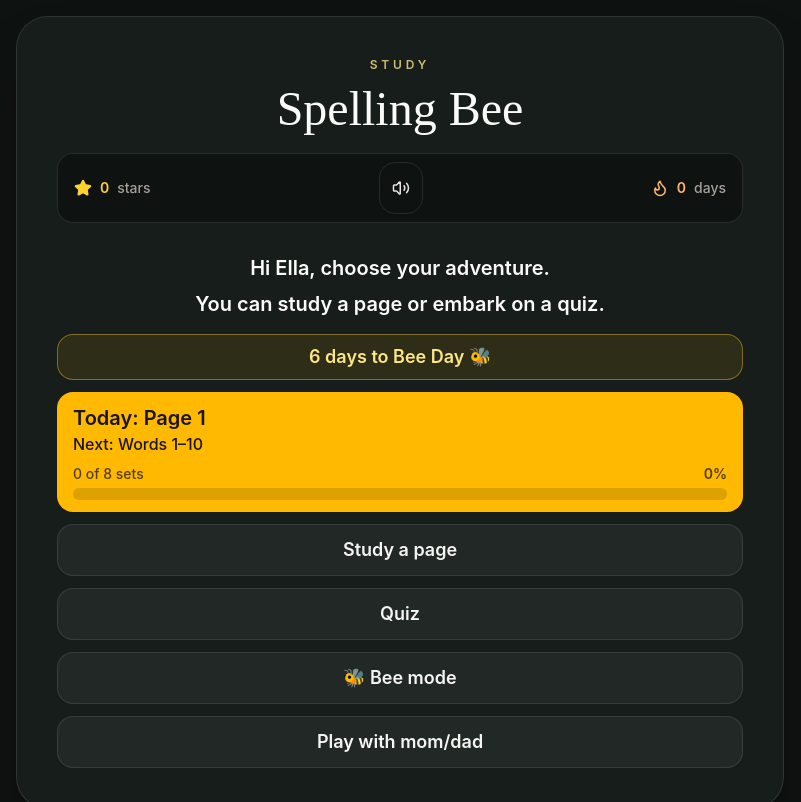
Scenario: spelling attempts › fills the letter boxes from the current word as you type
Click the button "Quiz".
click(400, 614)  # box [57, 588, 743, 640]
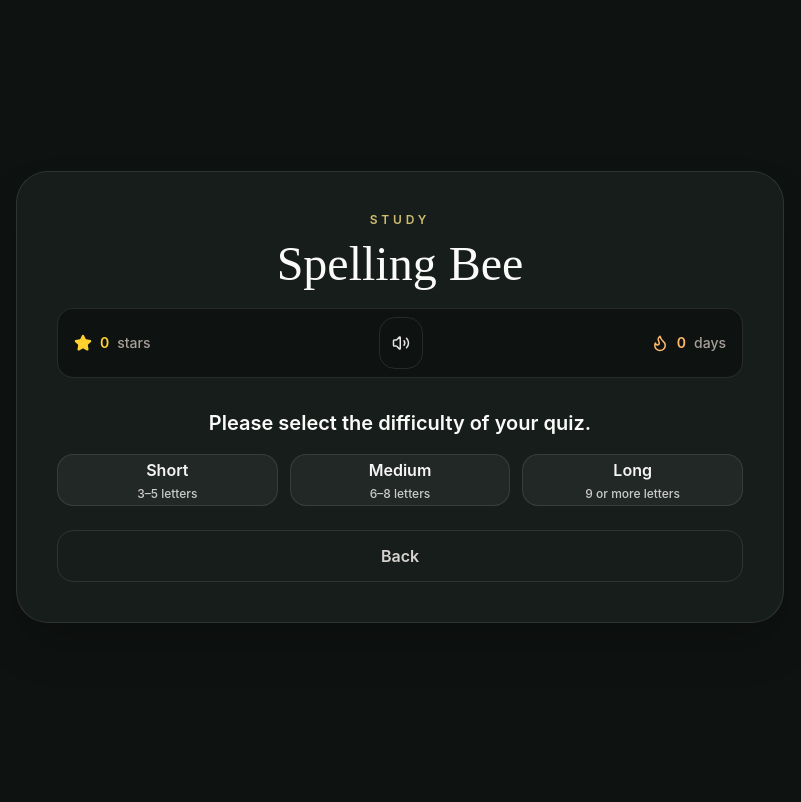
Click the button "Short 3–5 letters".
click(167, 480)  # box [57, 454, 278, 506]
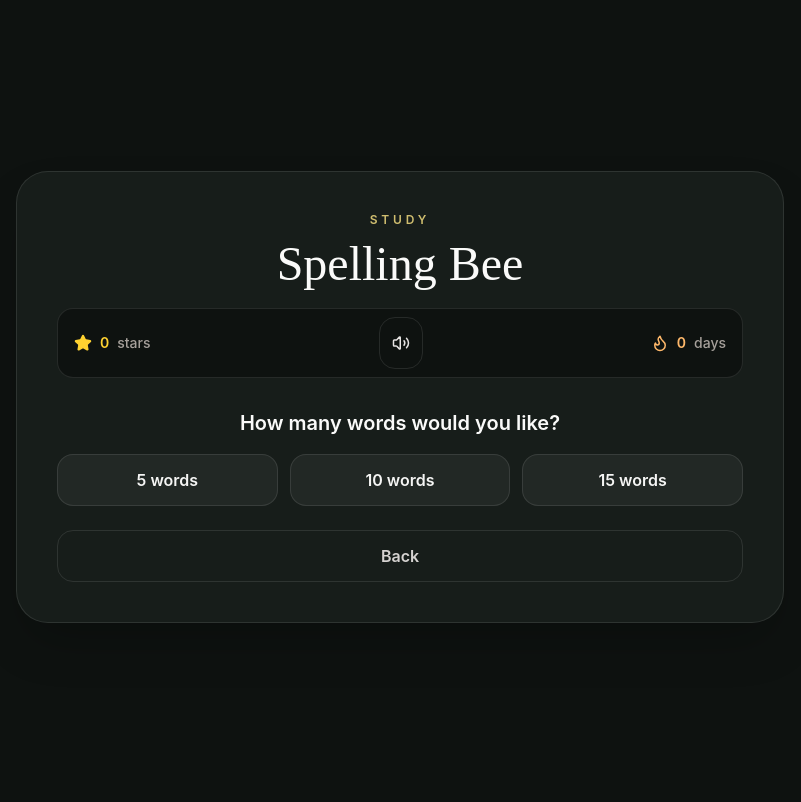
Click the button "5 words".
click(167, 480)  # box [57, 454, 278, 506]
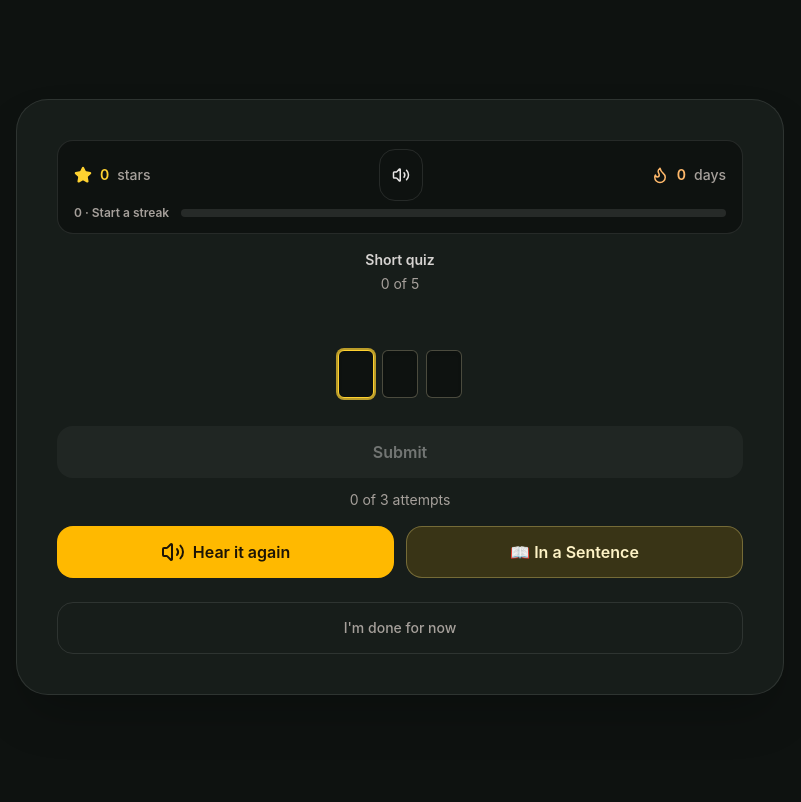
Type "ro" into the field named "spelling guess".
click(400, 374); type("ro")  # box [57, 342, 743, 406]
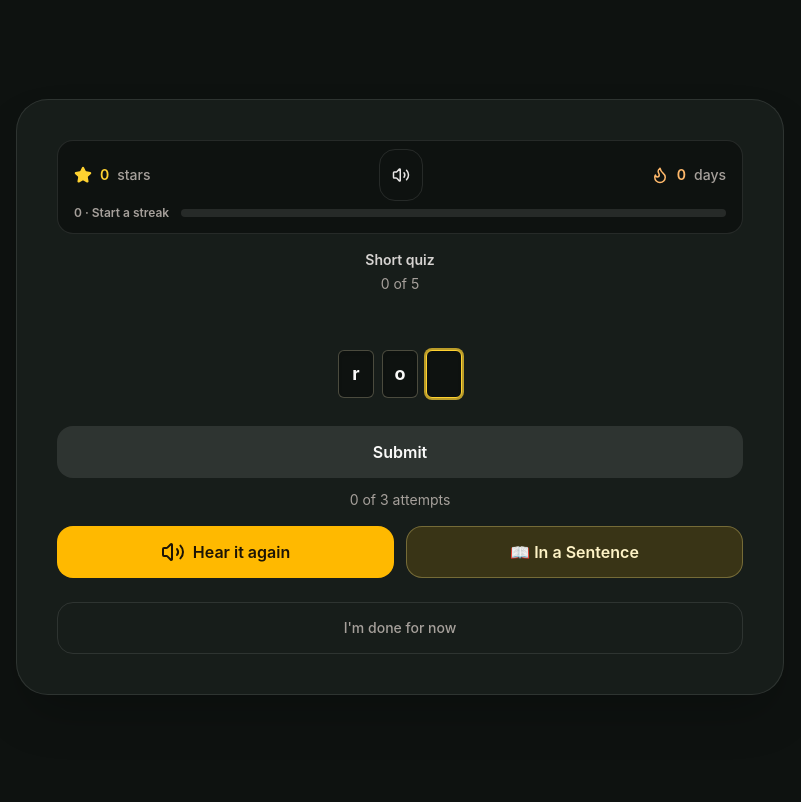
Expected: the elements with test id "letter-slot" read "r", "o", "", in this order, [338, 350, 374, 398]; [382, 350, 418, 398]; [426, 350, 462, 398]
